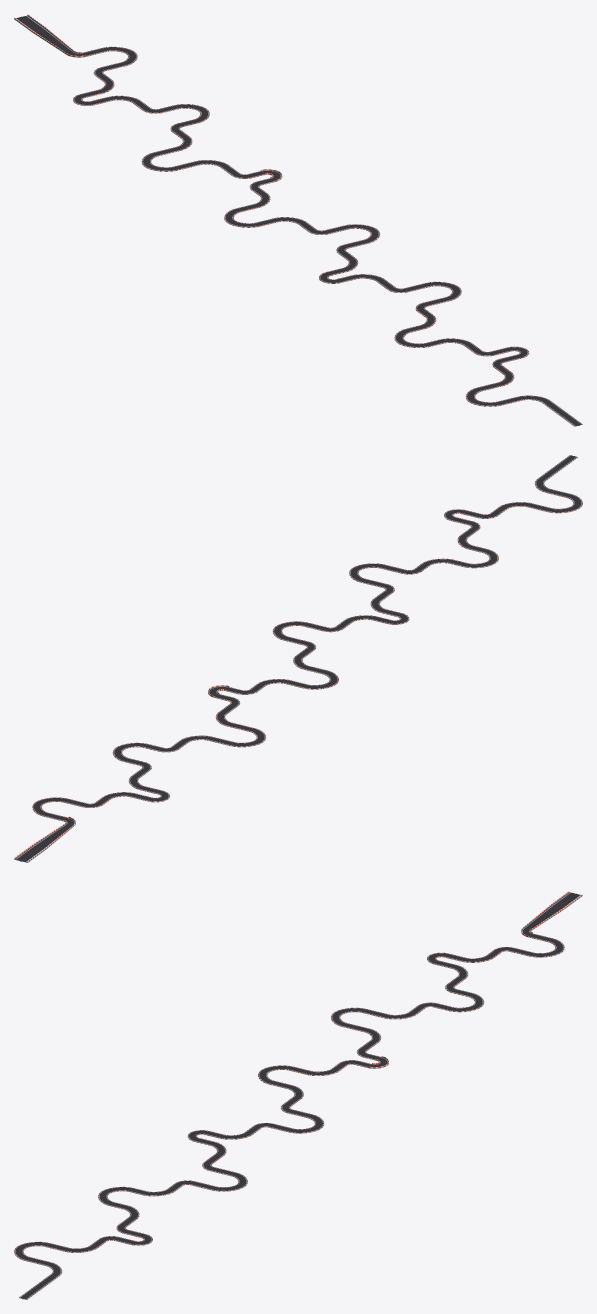
File: course-visual.glb
3 renders of one model, top to bottom at view 1: azimuth 30°, elevation 25°; view 2: azimuth 150°, elevation 25°; view 3: azimuth 330°, elevation 25°, orthographic.
Parts seen in each view (by area): view 1: asphalt actual native 90 and straight pieces, asphaltTight actual native 90 and straight pieces; view 2: asphalt actual native 90 and straight pieces, asphaltTight actual native 90 and straight pieces; view 3: asphalt actual native 90 and straight pieces, asphaltTight actual native 90 and straight pieces.
Part boxes in pixels (left/top/right/bottom): asphalt actual native 90 and straight pieces: left=14, top=14, right=582, bottom=426; asphaltTight actual native 90 and straight pieces: left=66, top=51, right=529, bottom=367; asphalt actual native 90 and straight pieces: left=14, top=455, right=582, bottom=862; asphaltTight actual native 90 and straight pieces: left=64, top=509, right=497, bottom=825; asphalt actual native 90 and straight pieces: left=14, top=891, right=582, bottom=1299; asphaltTight actual native 90 and straight pieces: left=99, top=928, right=532, bottom=1245.
Size of the model in its own units: 100 by 1.25 by 859.
2 materials, 2 textured.
